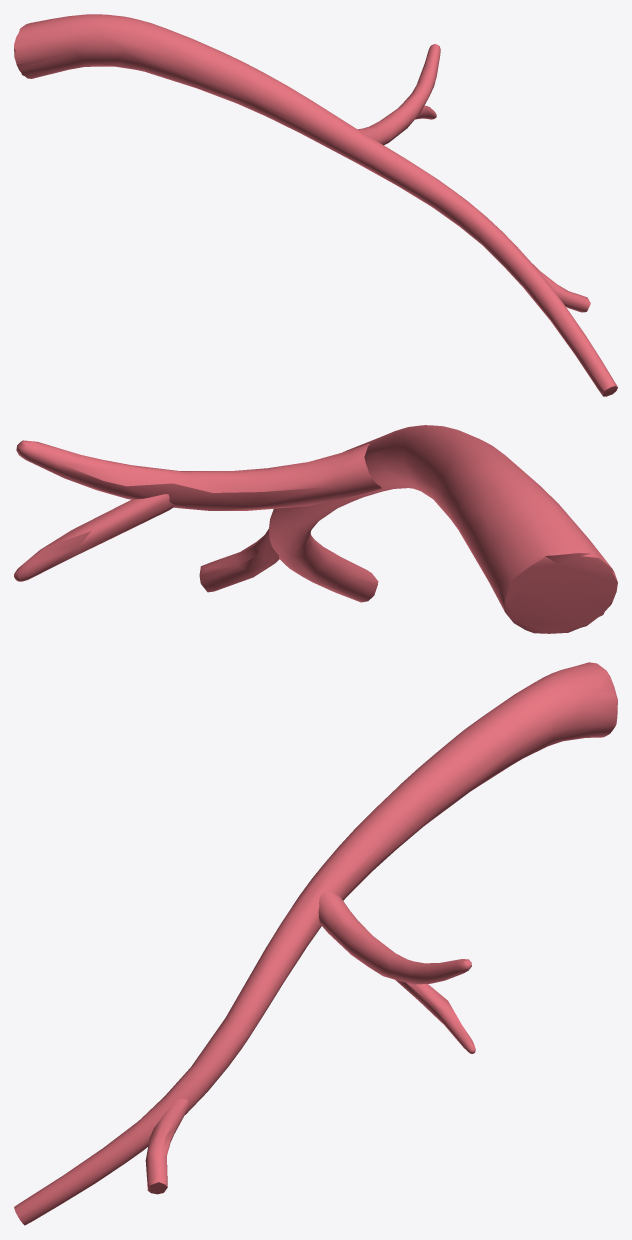
Rendered from fma68133_cx142.glb.
3 views of the same model, one above another, from view 1: azimuth 30°, elevation 25°; view 2: azimuth 150°, elevation 25°; view 3: azimuth 270°, elevation 25° (orthographic). The views are drawn at different scales.
Parts seen in each view (by area): view 1: FMA68133_CX142; view 2: FMA68133_CX142; view 3: FMA68133_CX142.
Boxes of the visible parts, x1,y1,x2,y2 form: FMA68133_CX142: (14, 14, 617, 396); FMA68133_CX142: (14, 425, 617, 633); FMA68133_CX142: (14, 662, 617, 1225).
Bounding box in the file's own units: 0.0632 × 0.0444 × 0.0668.
